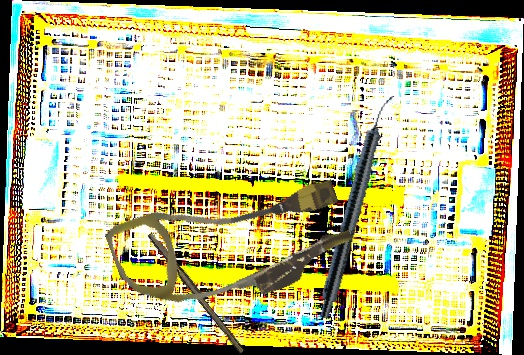Cannula: (103, 150, 360, 340)
Handpiece: (315, 91, 397, 321)
Scalpel Handle: (145, 230, 249, 355)
